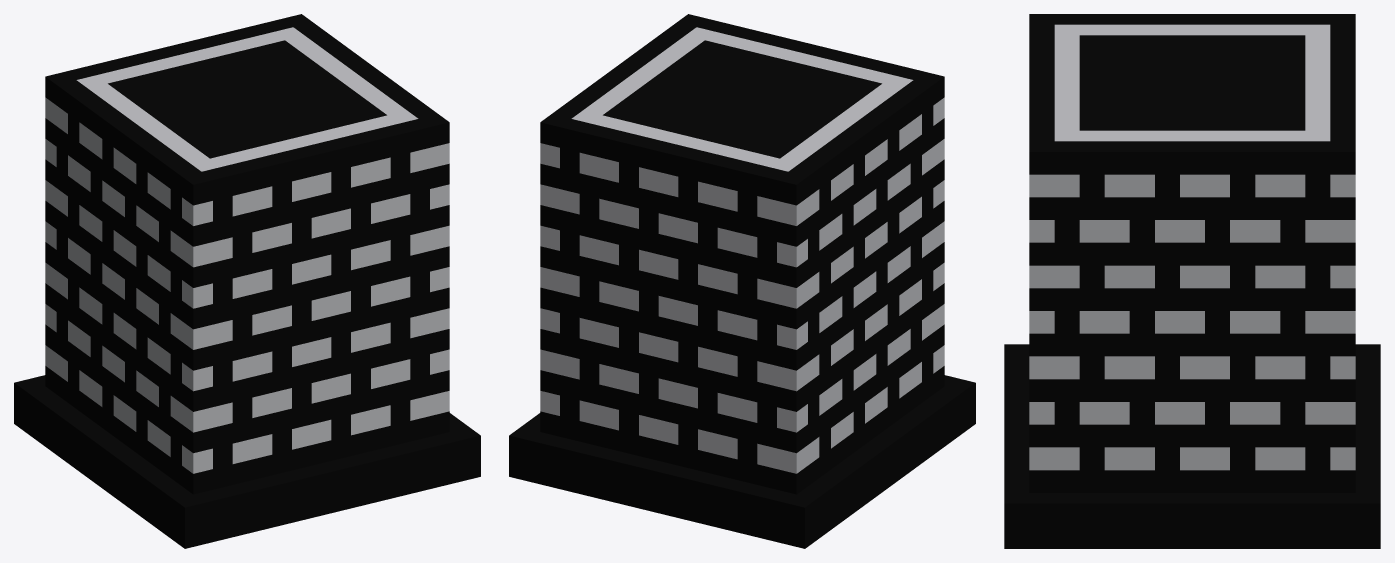
Rendered from dungeon_d_a_inner_wall_solo.obj.
3 renders of one model, left to right at view 1: azimuth 30°, elevation 25°; view 2: azimuth 150°, elevation 25°; view 3: azimuth 270°, elevation 25°, orthographic. The views are drawn at different scales.
Bounding box in the file's own units: 1.5 × 1.7 × 1.5.
Materials: 1 (1 with a texture image).
